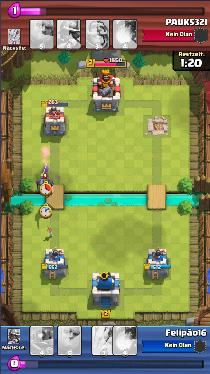enemy_mini_pekka: (37, 178, 53, 192)
